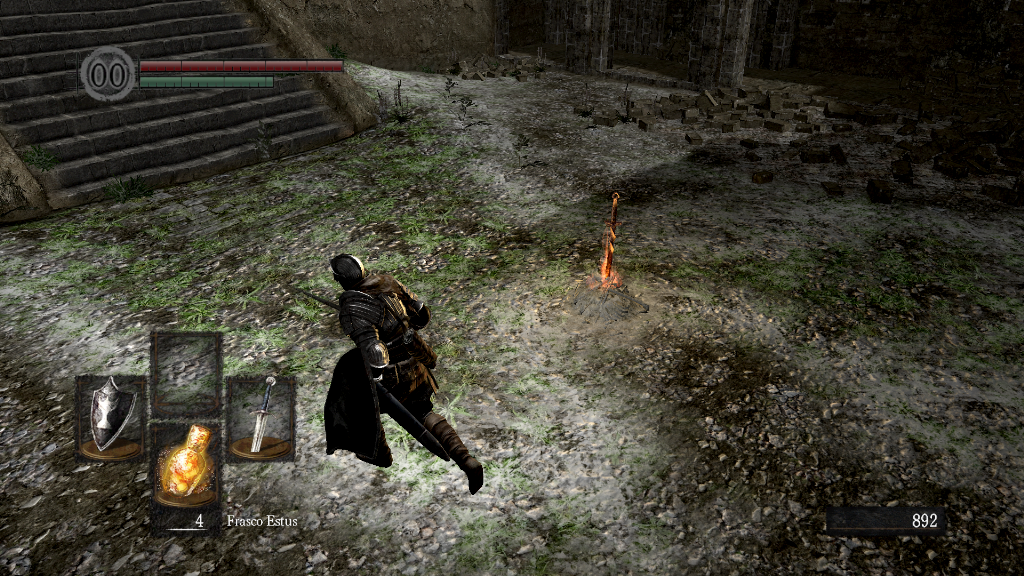bonfire: (561, 190, 652, 312)
health: (138, 58, 343, 71)
humanity: (80, 45, 136, 102)
player: (290, 250, 488, 494)
souls: (825, 506, 945, 536)
stamina: (138, 74, 274, 88)
